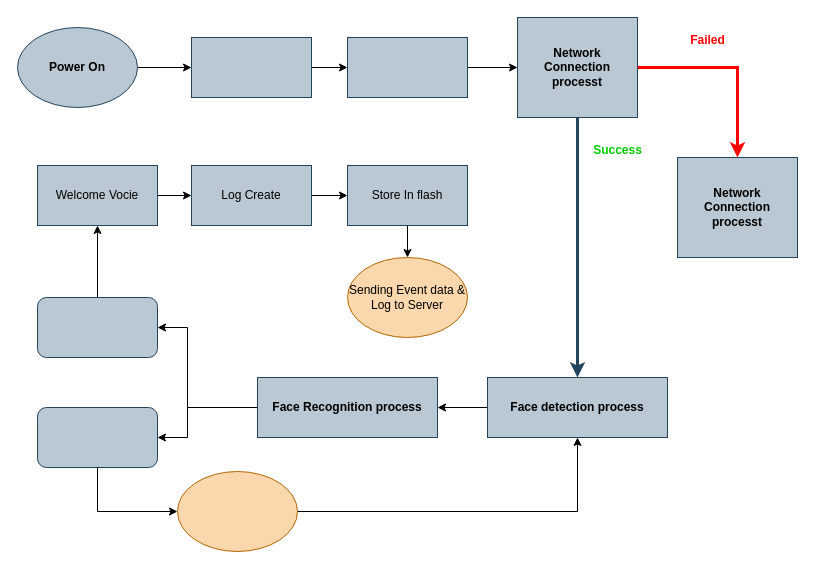
The diagram is 815 pixels wide and 569 high, and some of its shapes have lost their labels. The shapes that lost their labels are listed below. From the top down, each one's box as (x1, y1, x2, y2) in pixels, then its label:
(190, 36, 312, 98): Waiting to Wake Up
(346, 36, 468, 98): Welcome Voice to User
(36, 296, 158, 358): Face Matched
(36, 406, 158, 468): Face Not Matched
(176, 470, 298, 552): Failed Text and Voice
